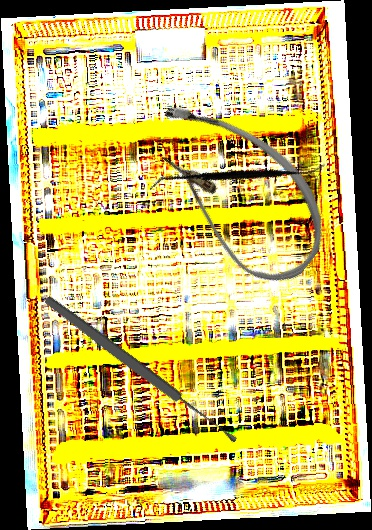Cannula: (118, 81, 352, 301)
Spatula Surgical: (147, 94, 328, 259)
Surgical Spoon: (42, 293, 240, 447)
